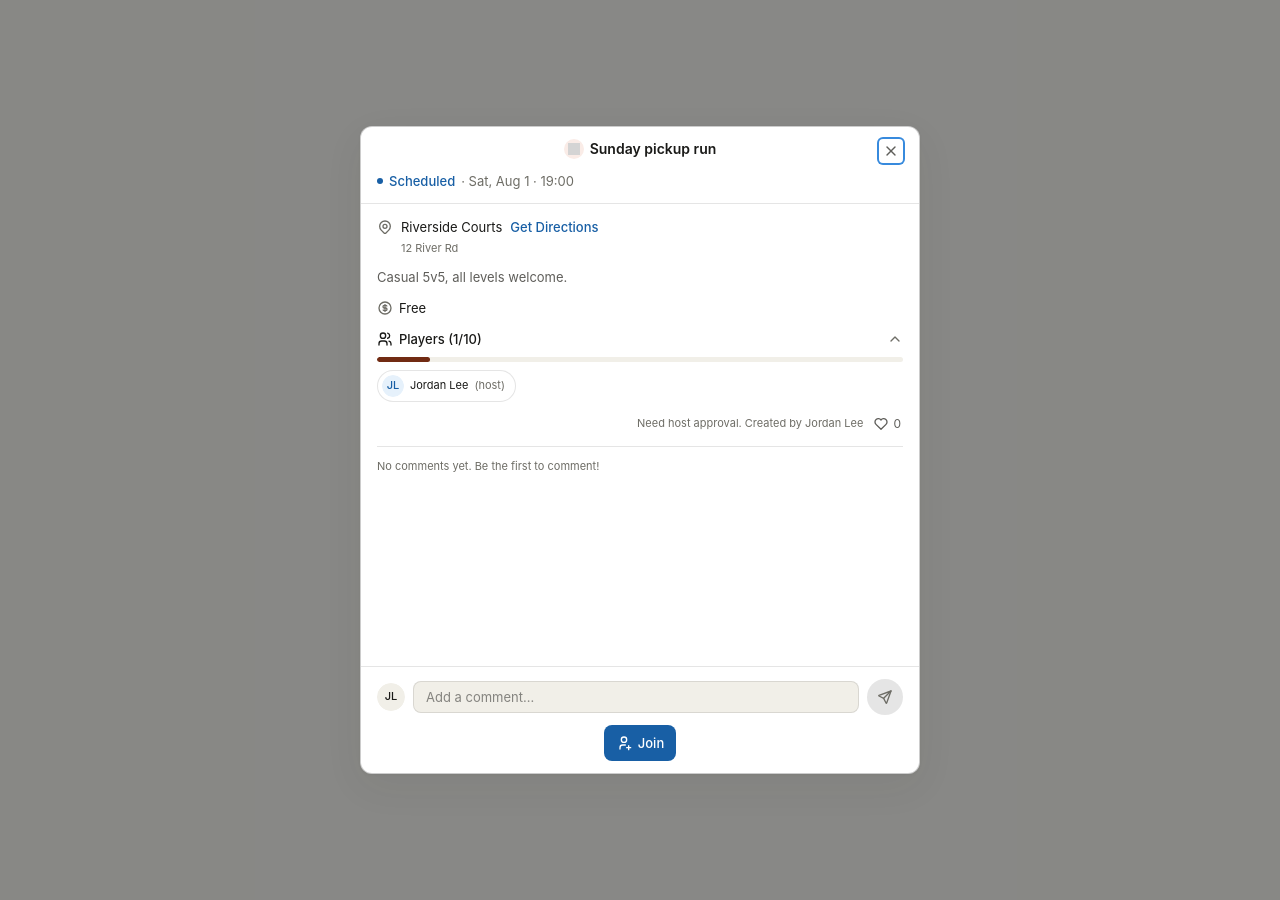
Test case: SessionDetailModal › Players section: collapsing swaps the roster chips for a decorative avatar-stack preview, capacity meter always shows
expect the text "Jordan Lee" is shown: met, box [410,378,468,393]
Step 1. Click the button "Players (1/10)" → (440, 339), box [377,330,903,349]
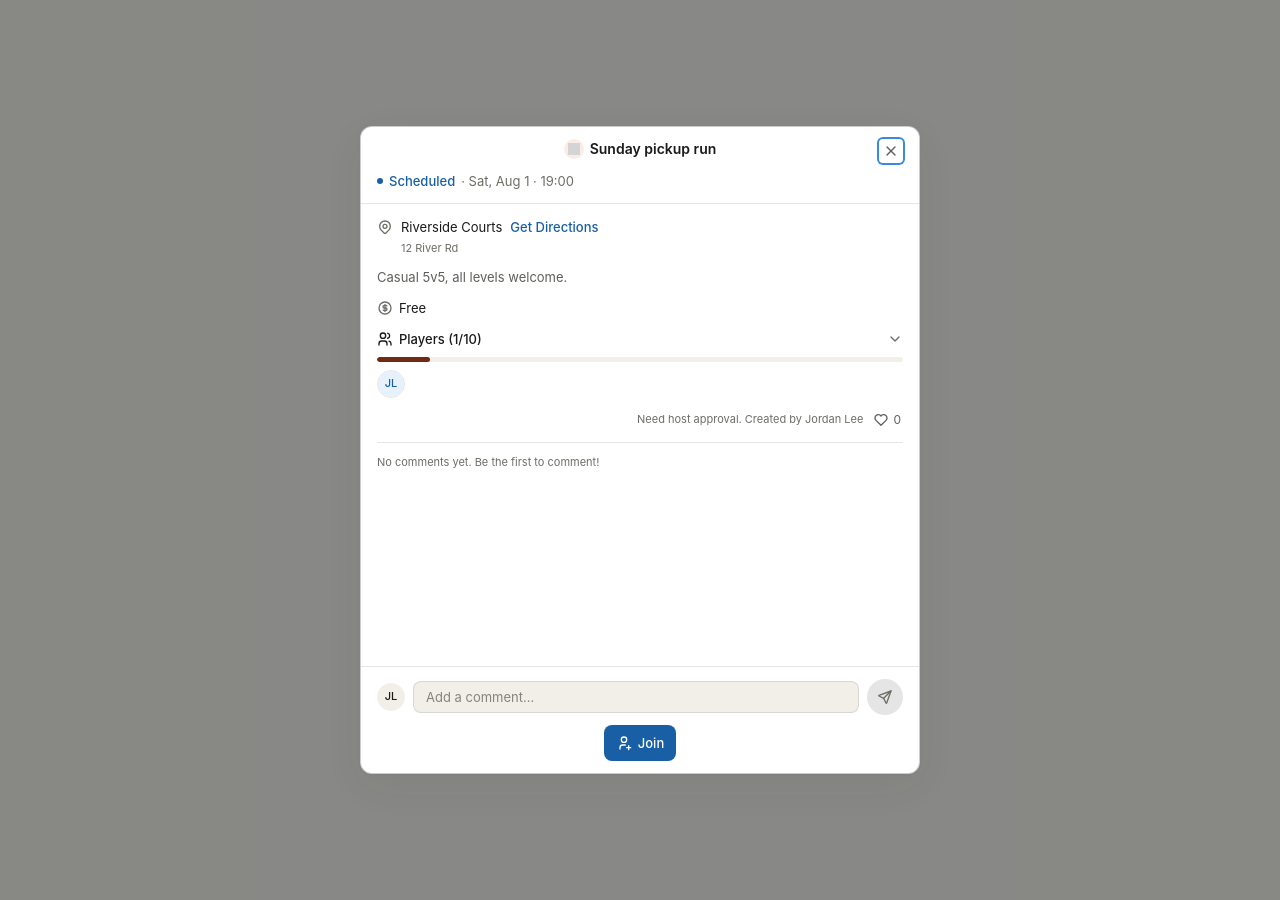
expect the button "Players (1/10)" is collapsed: met, box [377,330,903,349]
